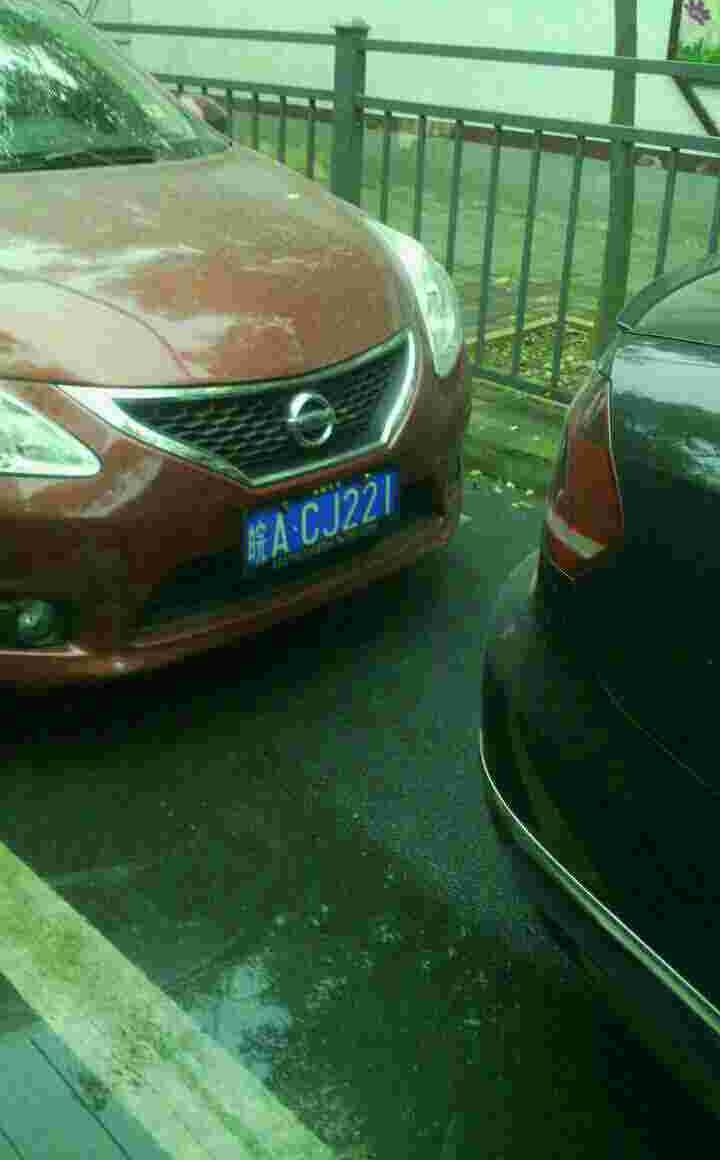license_plate: (237, 463, 405, 576)
